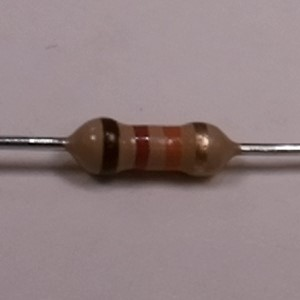brown_band: (96, 114, 122, 182)
gold_band: (189, 120, 211, 179)
orange_band: (160, 123, 184, 174)
red_band: (129, 121, 152, 174)
